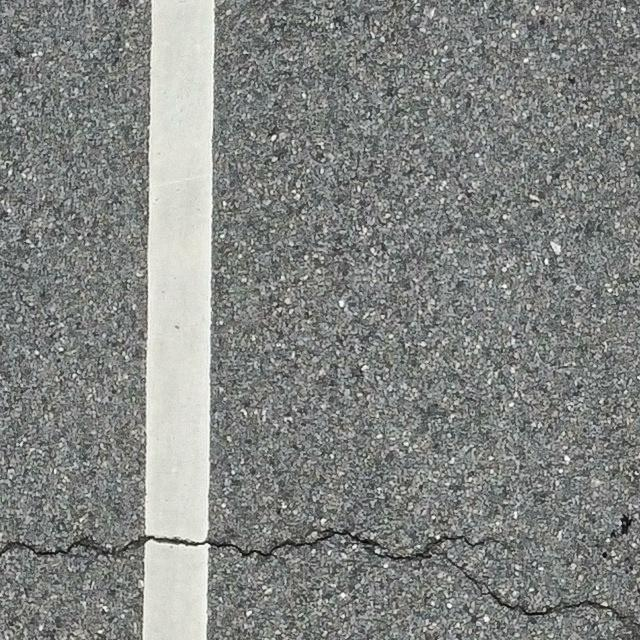TransverseCrack: (1, 527, 640, 631)
